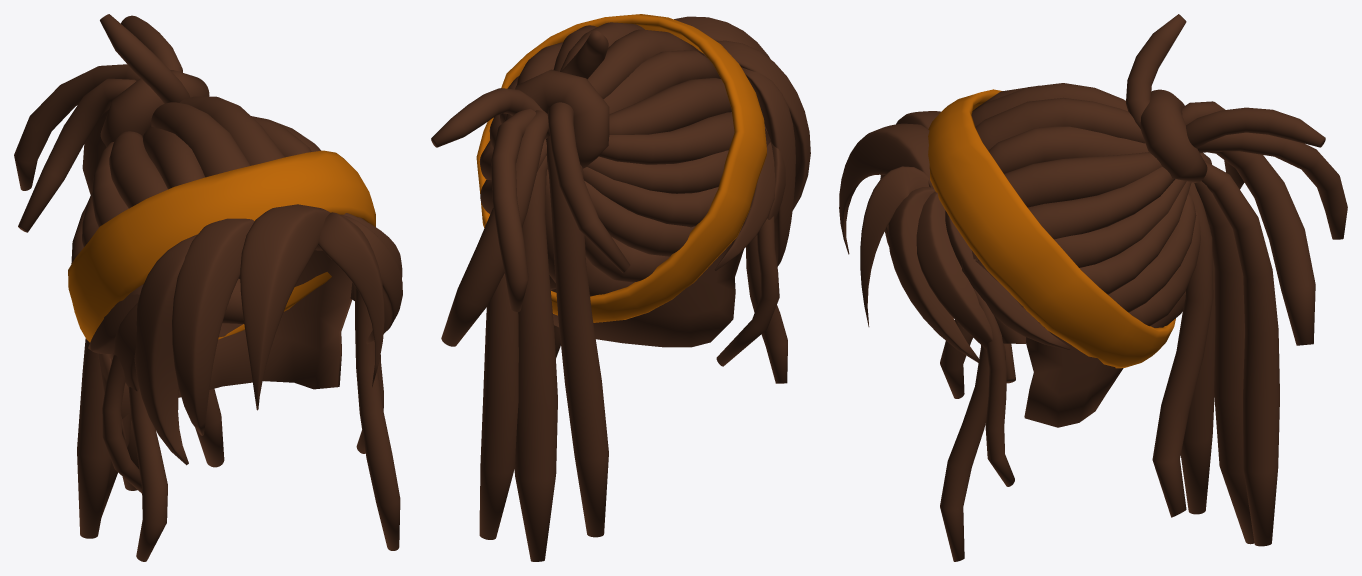
The picture shows the model from 3 angles, left to right: view 1: azimuth 30°, elevation 25°; view 2: azimuth 150°, elevation 25°; view 3: azimuth 270°, elevation 25°; orthographic projection. The views are drawn at different scales.
Parts seen in each view (by area): view 1: hairDreadsBandana; view 2: hairDreadsBandana; view 3: hairDreadsBandana.
Part boxes in pixels (x1,y1,x2,y2): hairDreadsBandana: [14, 14, 402, 561]; hairDreadsBandana: [431, 14, 810, 561]; hairDreadsBandana: [839, 14, 1347, 561].
Bounding box in the file's own units: 0.5217 × 0.9667 × 0.8637.
1 material, 1 textured.
